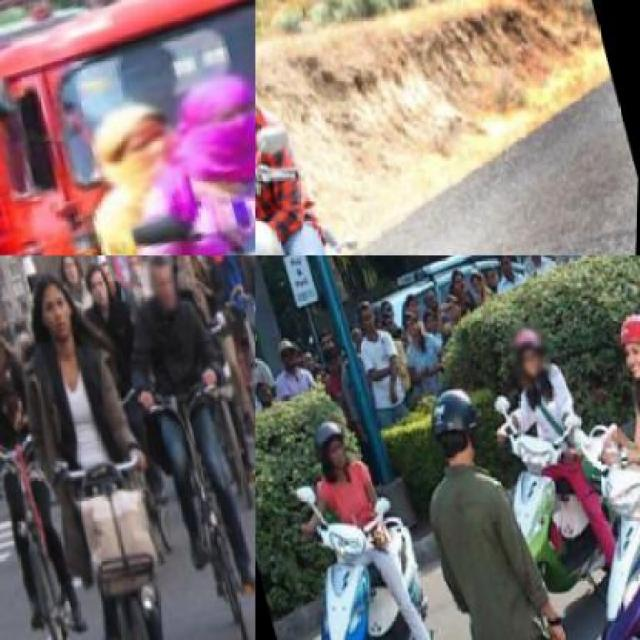With Helmet: (421, 373, 499, 475), (305, 412, 364, 488), (504, 317, 561, 391), (603, 303, 639, 400)
Without Helmet: (151, 57, 254, 185), (81, 90, 192, 202), (21, 261, 88, 350), (134, 255, 188, 323)
